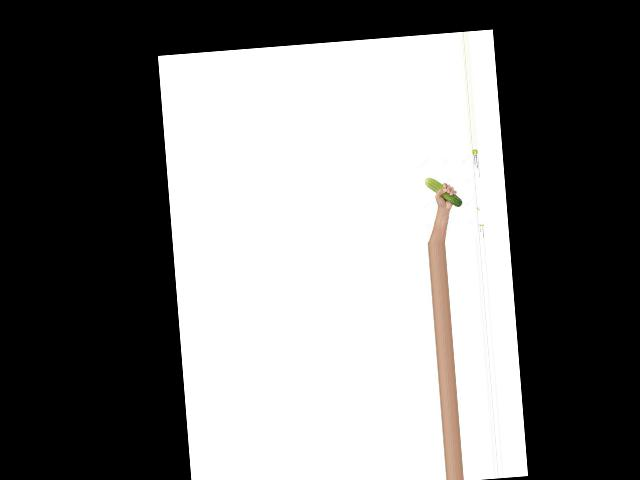cucumber: (425, 175, 463, 210)
